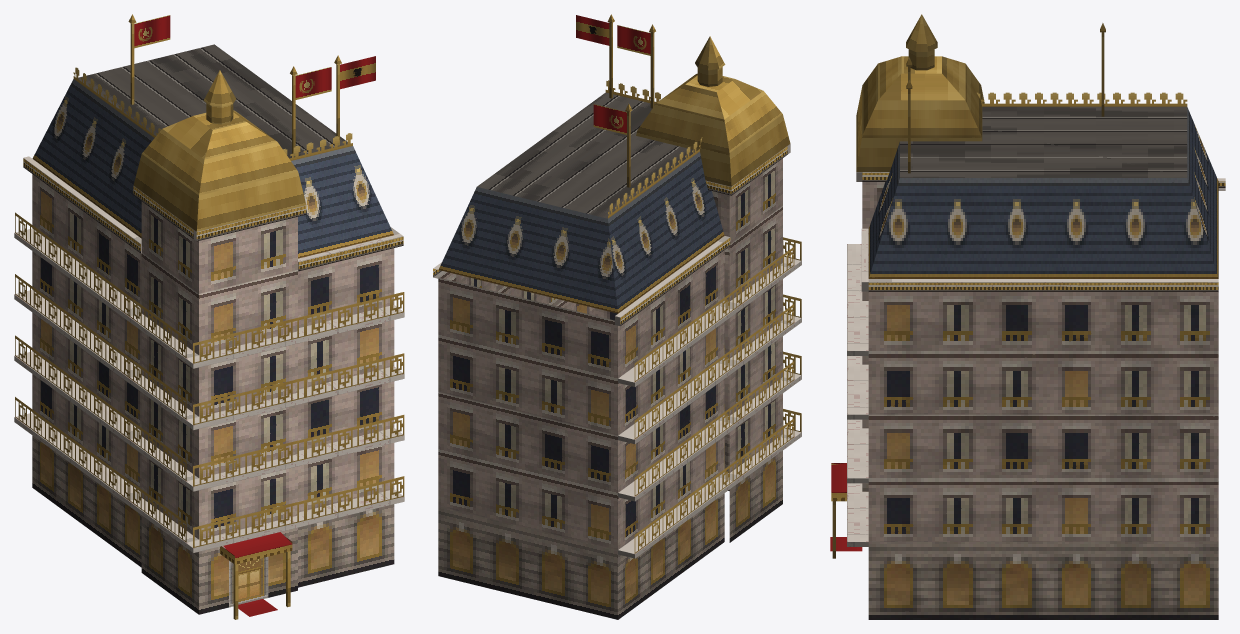
File: env_bld_residential_rich.glb
3 renders of one model, left to right at view 1: azimuth 30°, elevation 25°; view 2: azimuth 150°, elevation 25°; view 3: azimuth 270°, elevation 25°, orthographic. The views are drawn at different scales.
Parts seen in each view (by area): view 1: env_bld_residential_rich; view 2: env_bld_residential_rich; view 3: env_bld_residential_rich.
Boxes of the visible parts, <box> form: env_bld_residential_rich: <box>14,14,404,619</box>; env_bld_residential_rich: <box>433,14,801,619</box>; env_bld_residential_rich: <box>830,14,1225,619</box>.
Size of the model in its own units: 0.0167 by 0.0375 by 0.0253.
Materials: 4 (4 with a texture image).
